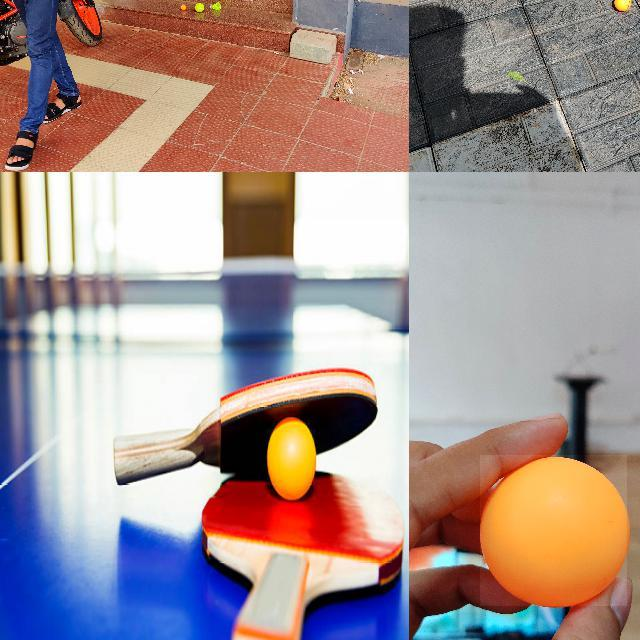ping-pong-ball: (480, 455, 628, 607), (267, 417, 316, 500), (614, 0, 630, 11), (180, 4, 186, 10)
